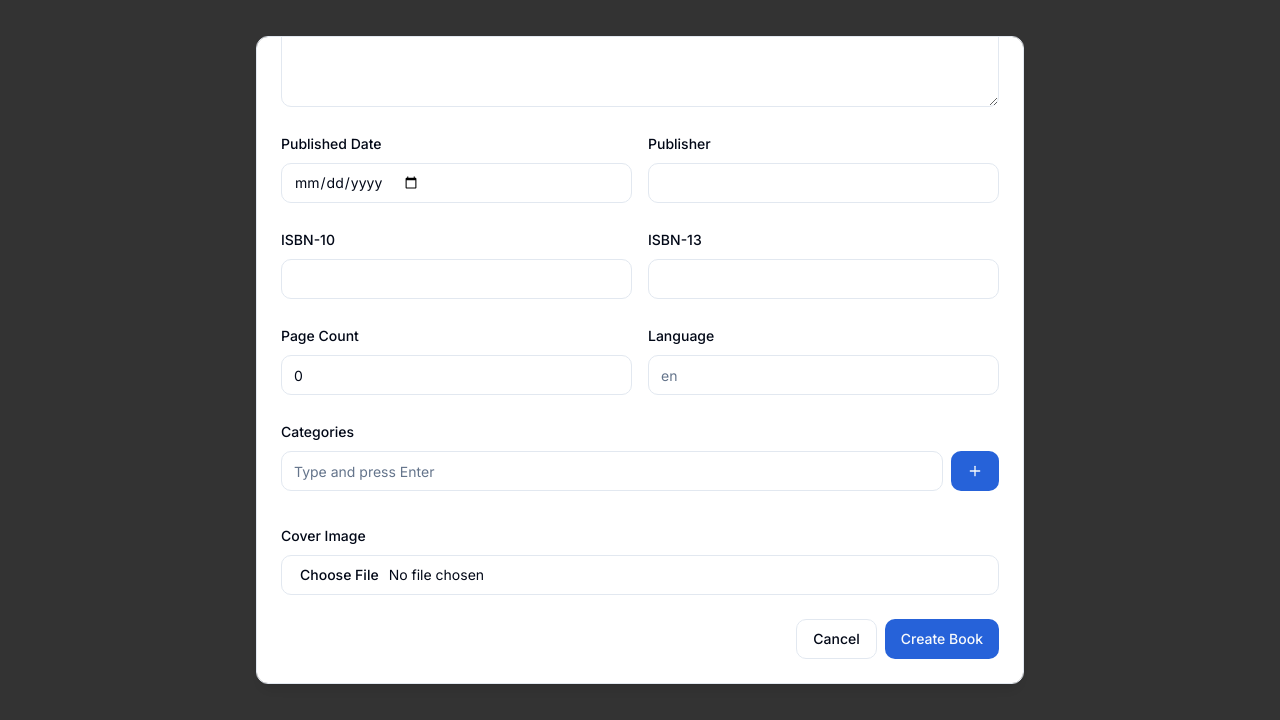
Test: BookFormDialog › handles category additions and removals
(page scrolled)
Add a category
Step 1. Type "Test Category" into the field with placeholder "Type and press Enter" → x=612, y=471, box [281,451,943,491]
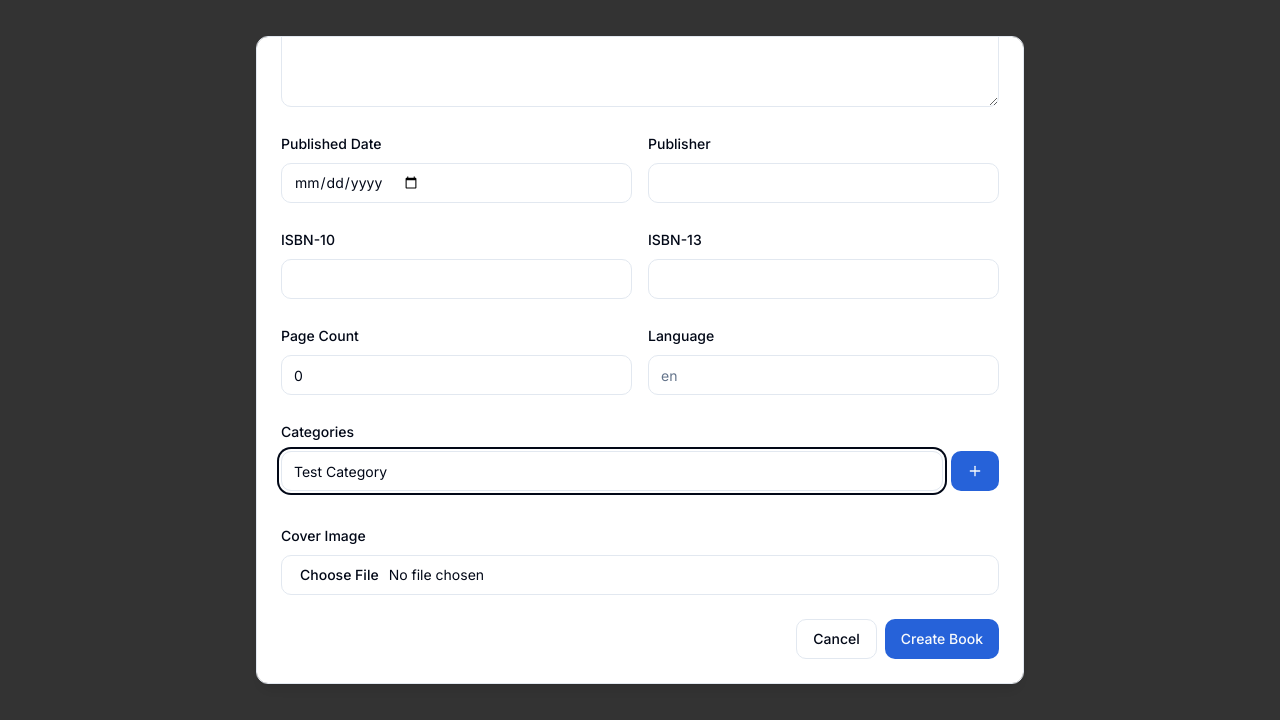
Step 2. Press Enter
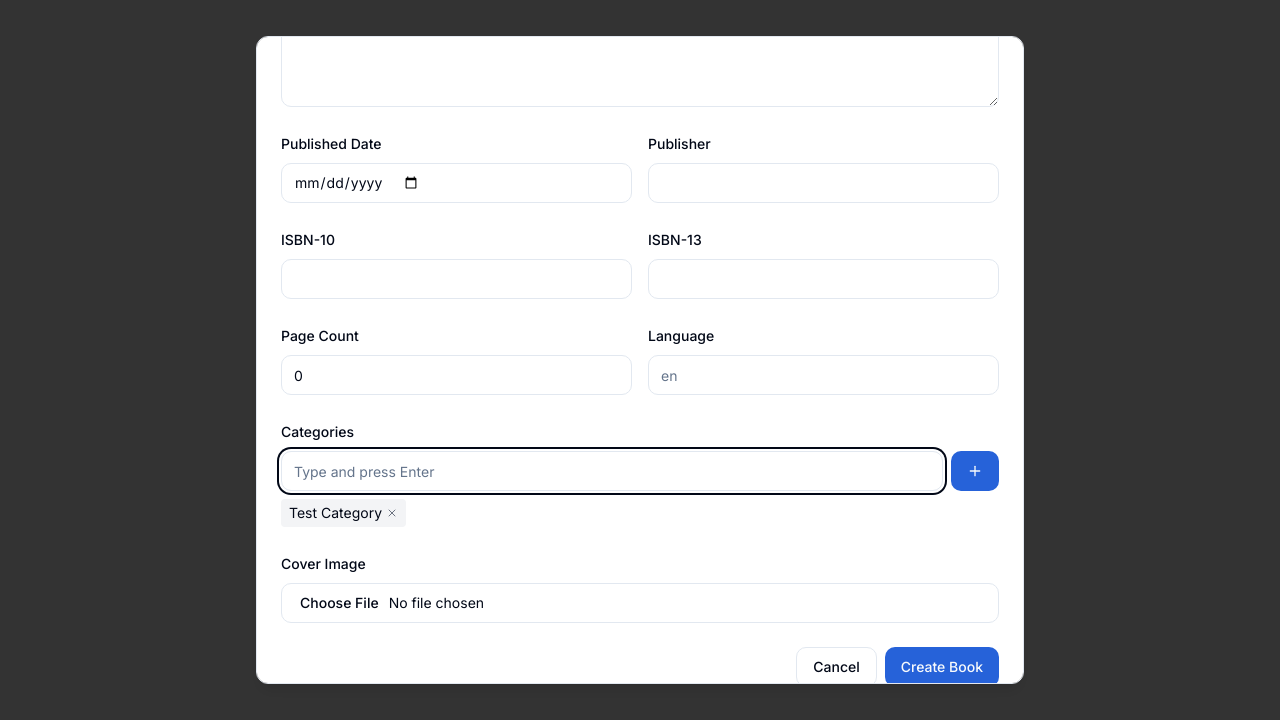
Result: the text "Test Category" is shown at [289,503,382,523]
Step 3. Click the button without text next to "Test Category" → x=392, y=513, box [386,507,398,519]
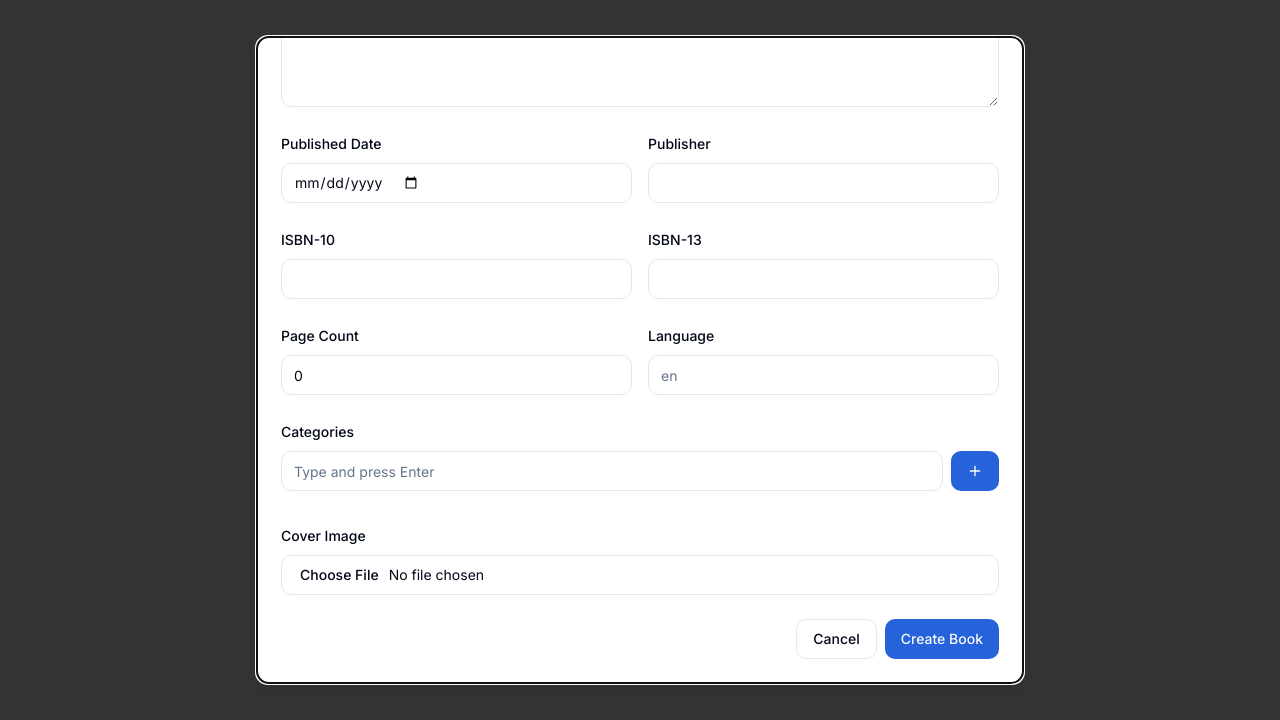
Result: the text "Test Category" is gone
